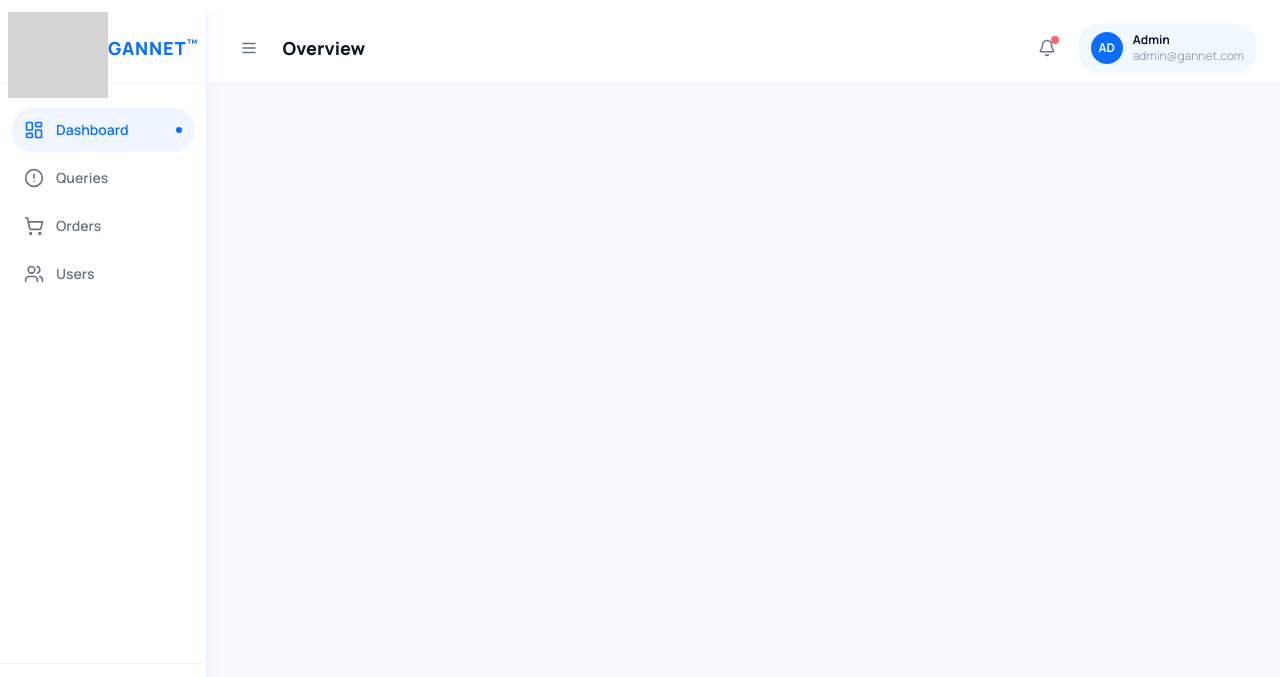
Test: Dashboard › switches the active tab from the sidebar
The image size is (1280, 677).
Expected: the heading reads "overview", [283,36,365,60]
What coordinates should you click on to do the following:
click the button "Users"
I would click on:
 (103, 274)
Its box is [12,252,194,296].
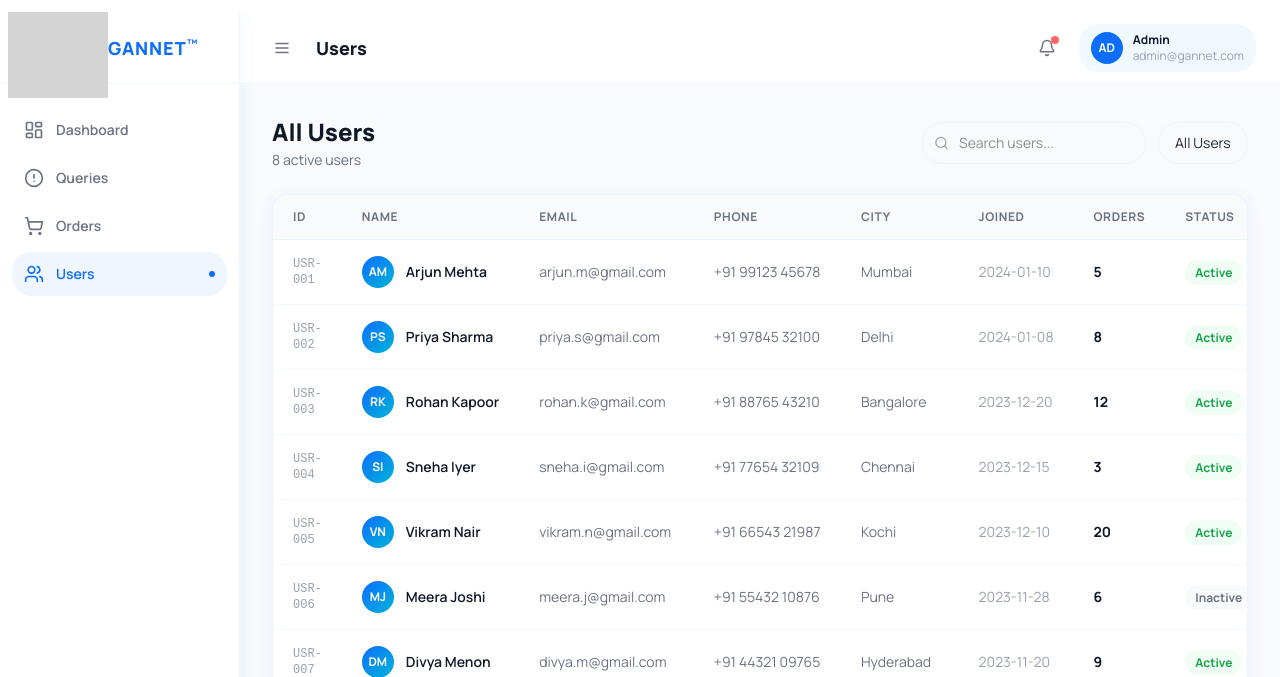
Result: the heading "users" is shown at [316,34,367,62]
